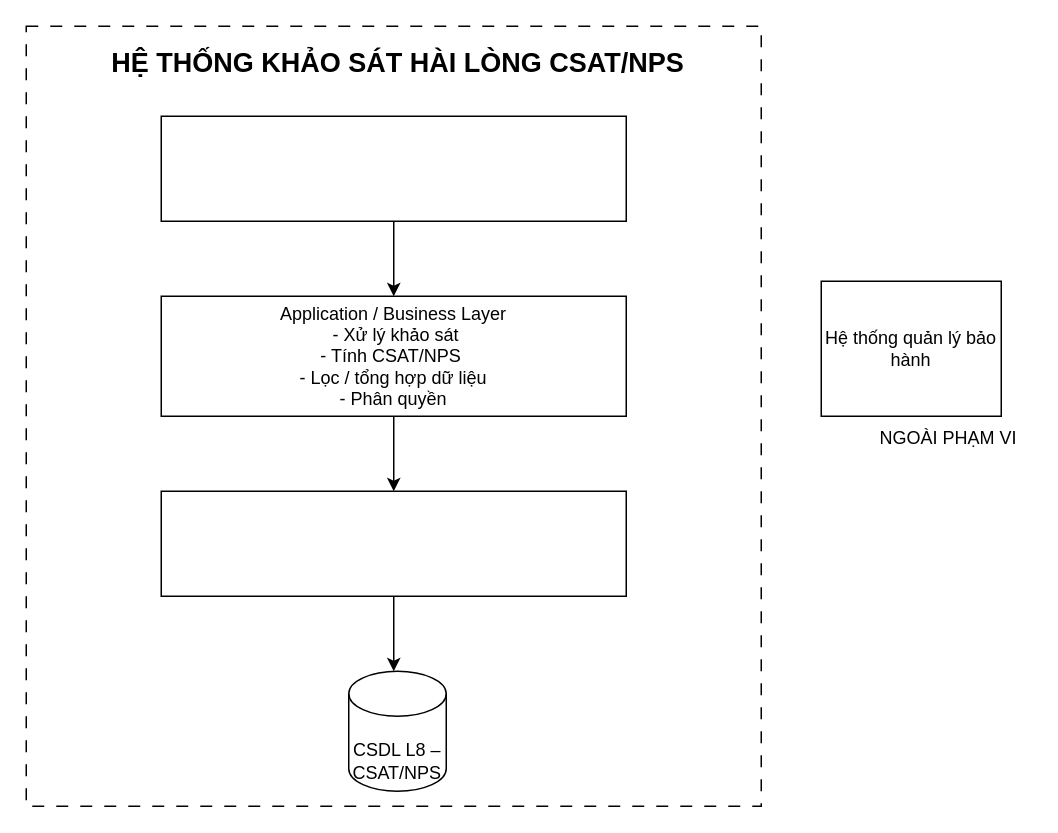
Image size: 1058x833. Some labels were removed from this diagram. The shapes that lost their labels are listed below. From the top down, each one's box as (x1, y1, x2, y2) in pixels, then its label:
(160, 115, 626, 221): Presentation Layer Giao diện khảo sát / Dashboard / Báo cáo
(160, 490, 626, 596): Data Layer - Repository -Truy cập dữ liệu
